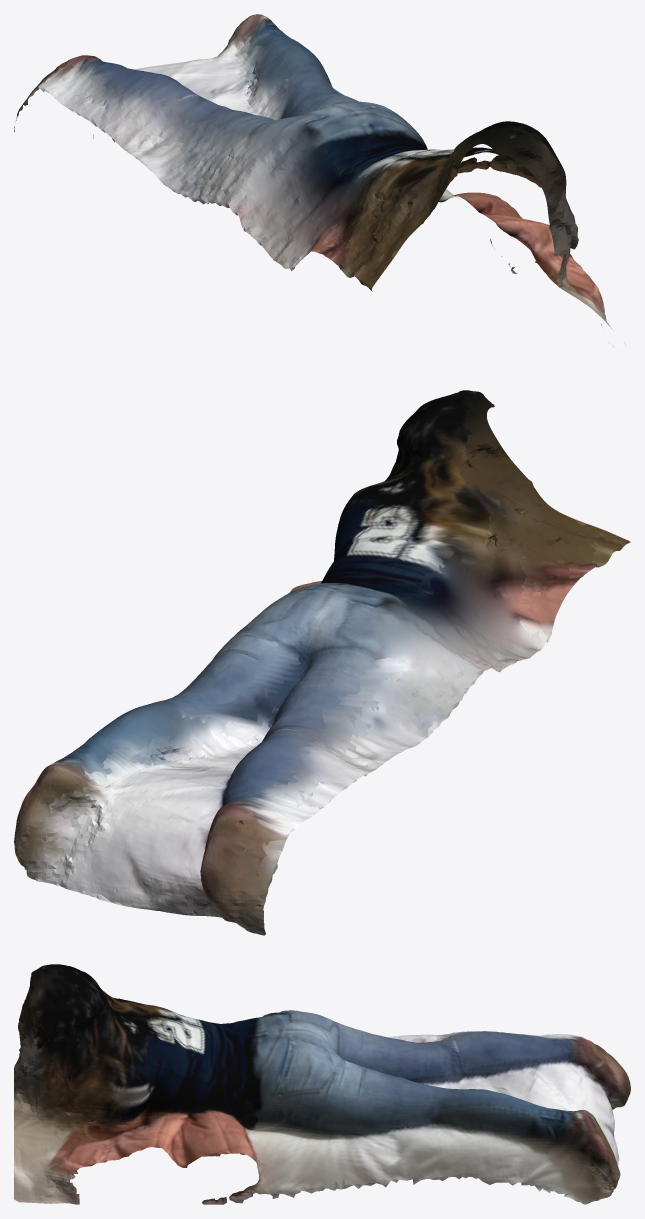
3 renders of one model, top to bottom at view 1: azimuth 30°, elevation 25°; view 2: azimuth 150°, elevation 25°; view 3: azimuth 270°, elevation 25°, orthographic. The views are drawn at different scales.
Bounding box in the file's own units: 0.6059 × 0.5493 × 1.56.
1 material, 1 textured.
